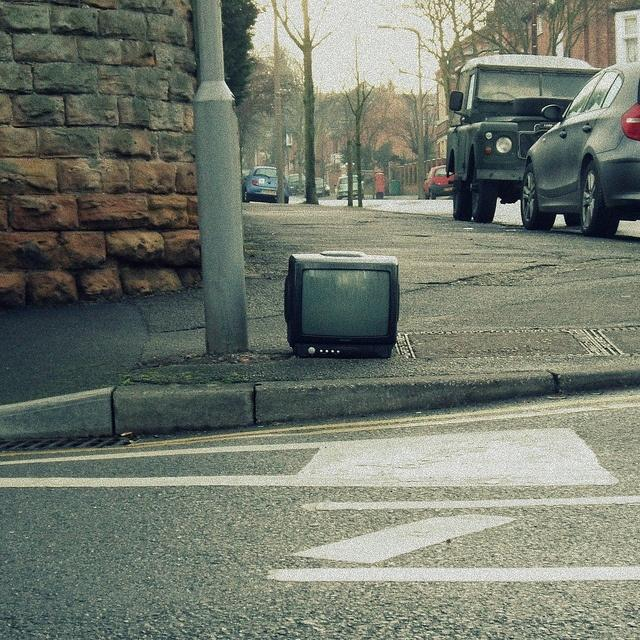E-waste: (402, 24, 640, 241), (269, 235, 426, 368)
